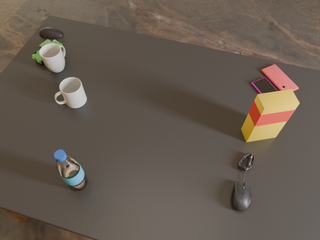bottle: (54, 150, 87, 191)
box: (241, 89, 299, 142)
cup: (55, 77, 87, 108), (39, 43, 65, 73)
mouse: (231, 181, 251, 211), (39, 28, 63, 39)
phone: (262, 64, 298, 91), (252, 78, 277, 94)
toy_car: (32, 39, 63, 64)
